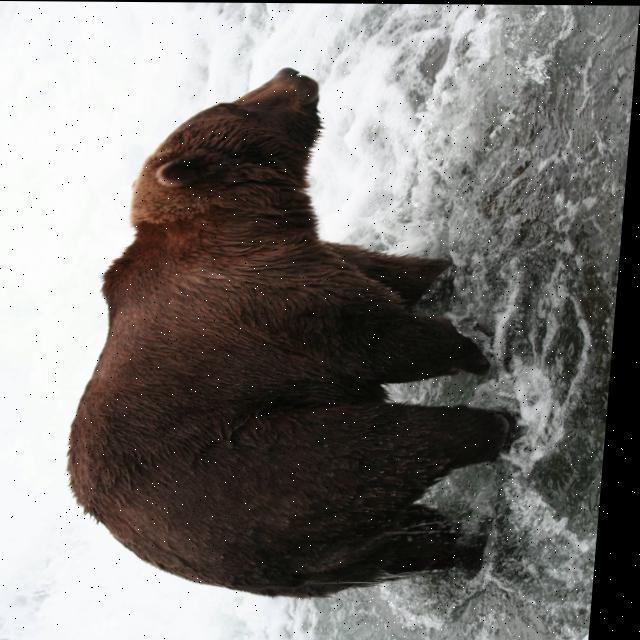bear face: (65, 65, 551, 599)
